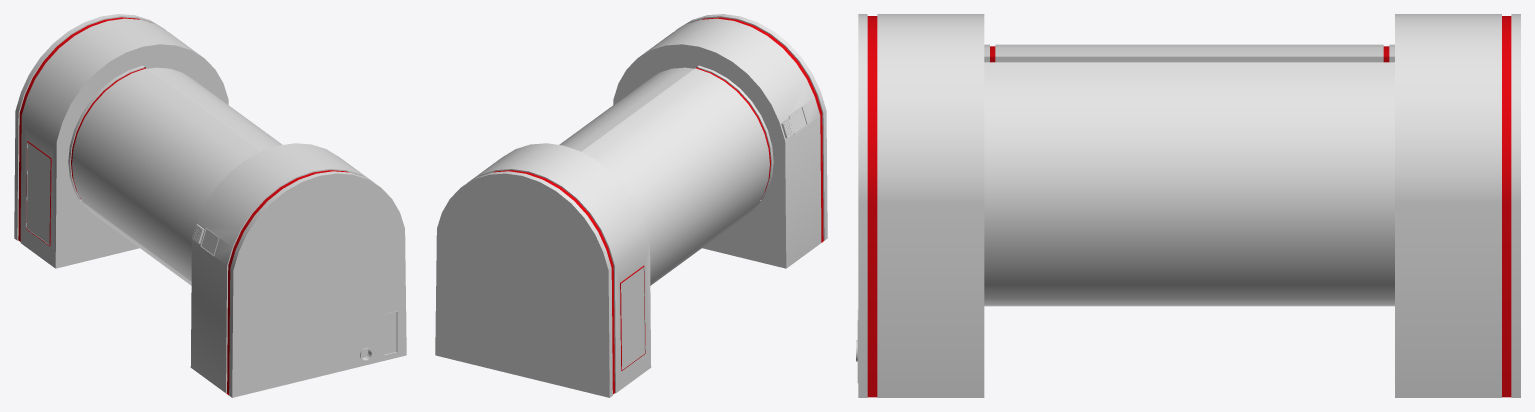
Rendered from Med_Bed.fbx.
The picture shows the model from 3 angles, left to right: view 1: azimuth 30°, elevation 25°; view 2: azimuth 150°, elevation 25°; view 3: azimuth 270°, elevation 25°; orthographic projection. The views are drawn at different scales.
Parts seen in each view (by area): view 1: rightCorner, CapsuleMove, LeftCorner, CapsuleMain, lid; view 2: LeftCorner, CapsuleMove, rightCorner, CapsuleMain, lid; view 3: CapsuleMain, rightCorner, LeftCorner, CapsuleMove.
Boxes of the visible parts, <box> form: rightCorner: <box>190,143,406,397</box>; CapsuleMove: <box>68,65,260,281</box>; LeftCorner: <box>14,14,228,268</box>; CapsuleMain: <box>79,67,282,285</box>; lid: <box>26,141,51,246</box>; LeftCorner: <box>435,143,651,397</box>; CapsuleMove: <box>581,65,773,281</box>; rightCorner: <box>613,14,827,268</box>; CapsuleMain: <box>559,67,762,285</box>; lid: <box>620,265,645,370</box>; CapsuleMain: <box>984,62,1394,306</box>; rightCorner: <box>856,14,984,397</box>; LeftCorner: <box>1395,14,1520,397</box>; CapsuleMove: <box>984,44,1394,62</box>.
Bounding box in the file's own units: 139 × 153 × 303.
